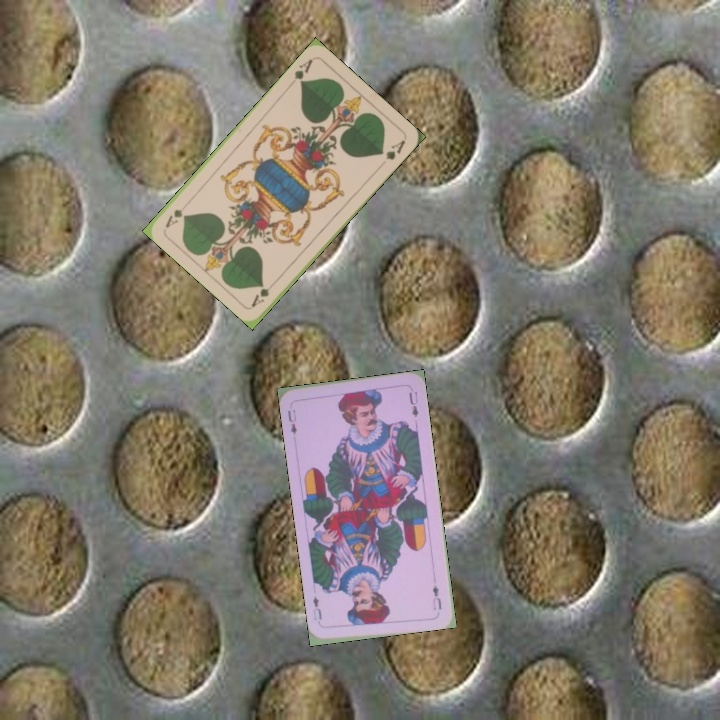EU: (283, 405, 299, 437), (429, 581, 444, 612)
GA: (247, 276, 279, 310), (285, 55, 315, 89)
